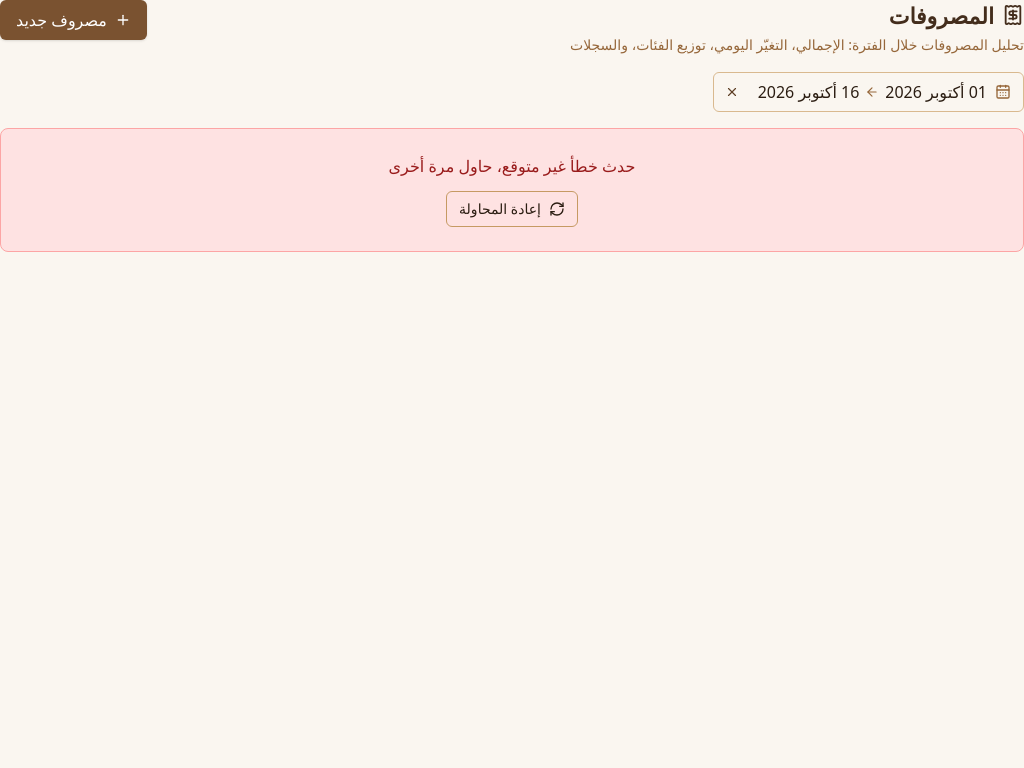
Test: Expenses analytics › reports a query failure with a working retry, not a blank page
This screenshot has width=1024, height=768.
expect the message shows "حدث خطأ غير متوقع": met, box left=389, top=155, right=635, bottom=177
Click the button "إعادة المحاولة". click: click(512, 209)
box: left=446, top=191, right=578, bottom=227
(page scrolled)
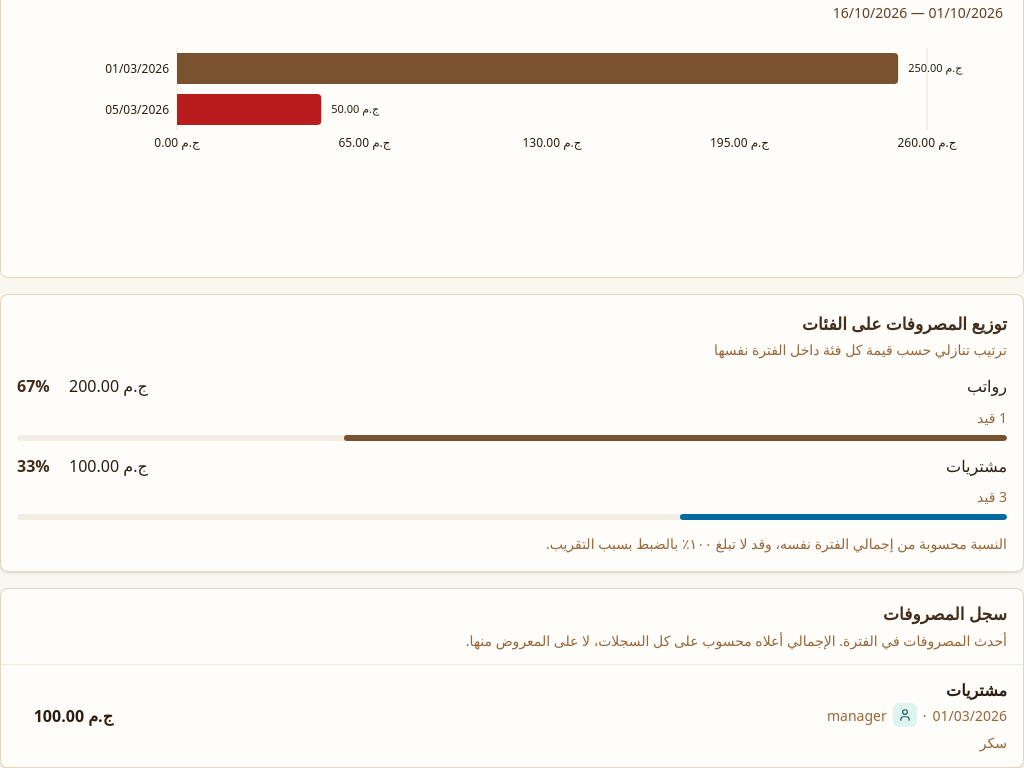
expect the text "رواتب" is shown: met, box left=967, top=373, right=1007, bottom=400
